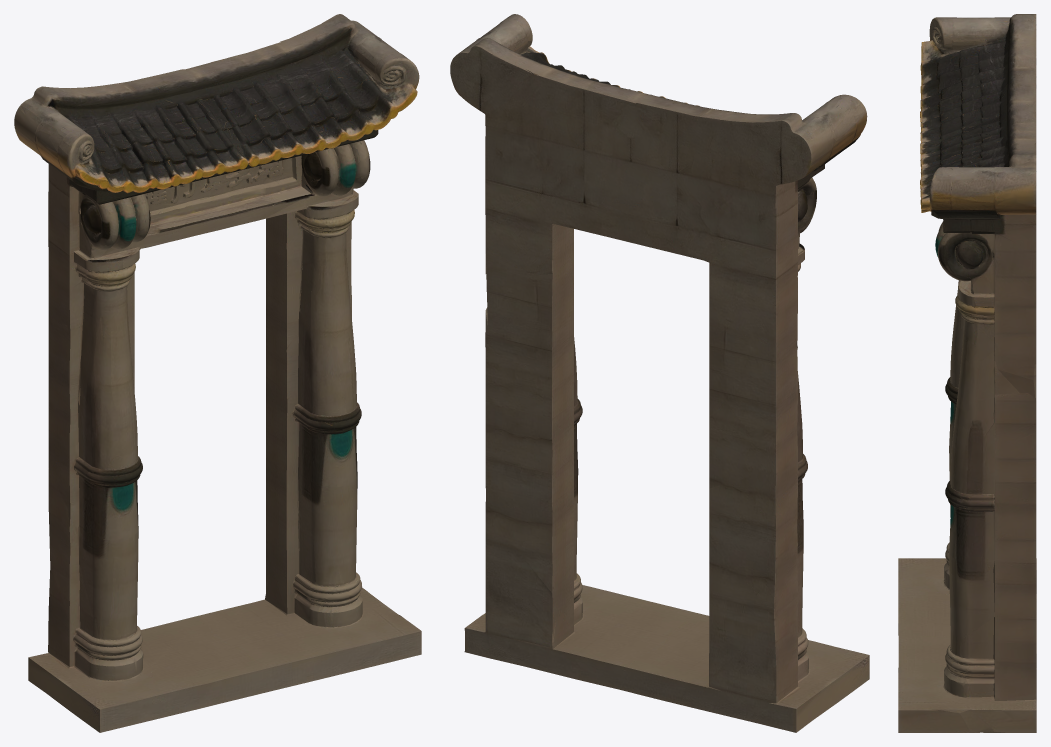
The model's file is time-gate-v1.glb.
The picture shows the model from 3 angles, left to right: view 1: azimuth 30°, elevation 25°; view 2: azimuth 150°, elevation 25°; view 3: azimuth 270°, elevation 25°; orthographic projection. The views are drawn at different scales.
Bounding box in the file's own units: 1.18 × 1.9 × 0.4168.
1 material, 1 textured.
